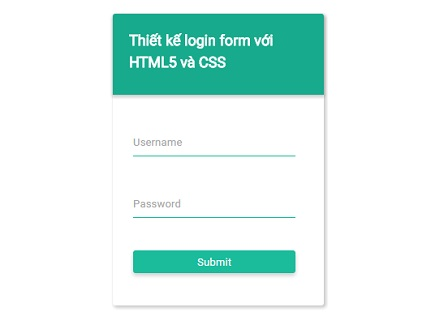button: (132, 249, 297, 274)
field: (130, 134, 298, 159), (132, 196, 297, 219)
